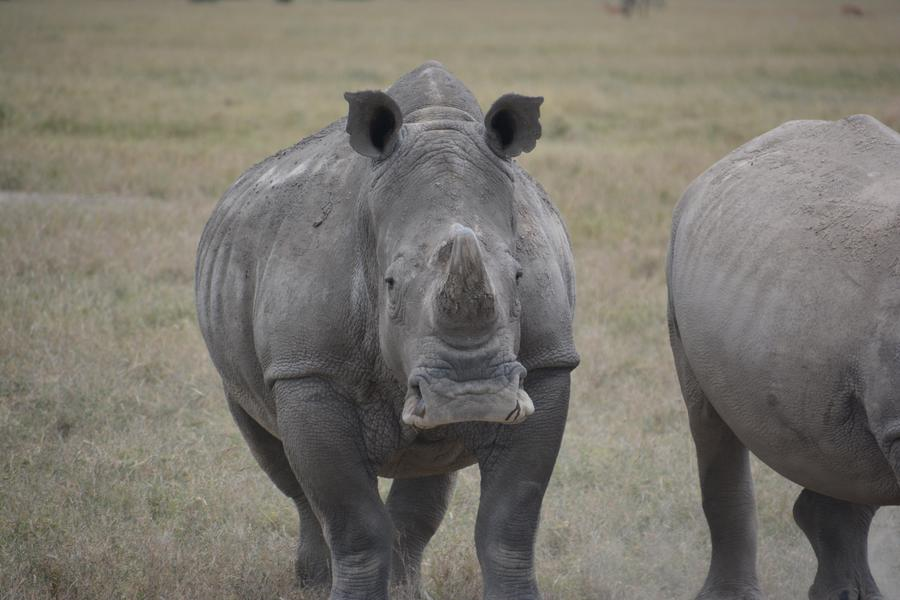rhino: (240, 70, 581, 553)
